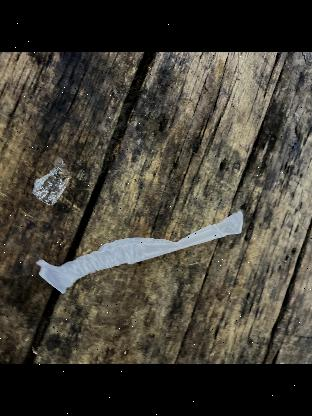Others: (36, 208, 248, 308), (31, 168, 65, 208)
